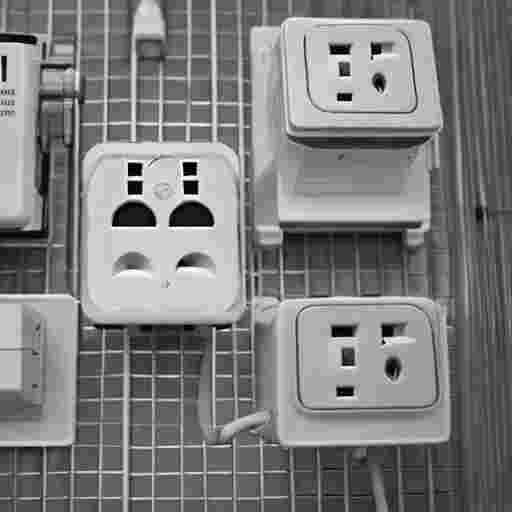power outlet: (275, 297, 449, 445), (0, 294, 77, 446)
